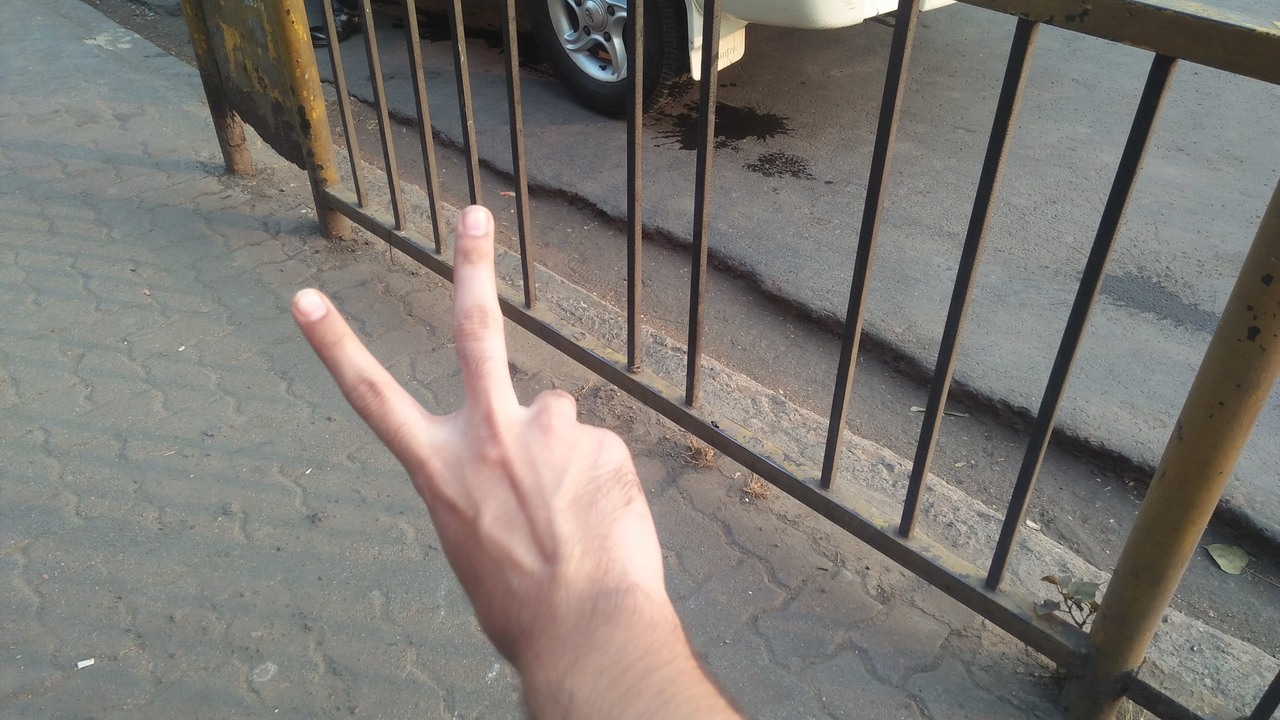fingertip: (280, 276, 338, 334), (446, 196, 498, 248)
